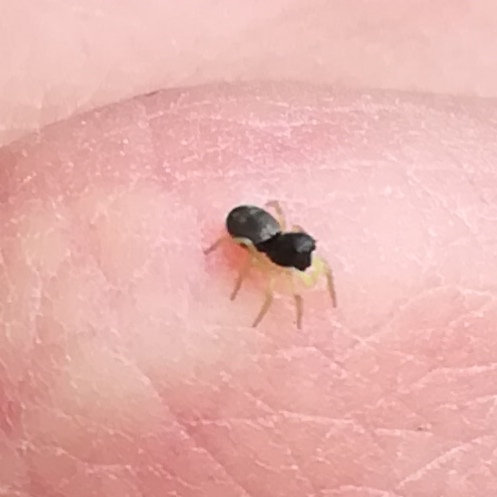spider: (191, 176, 361, 346)
